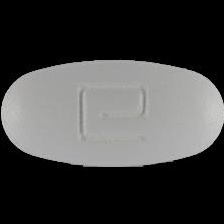51655-902: (0, 0, 224, 224)
